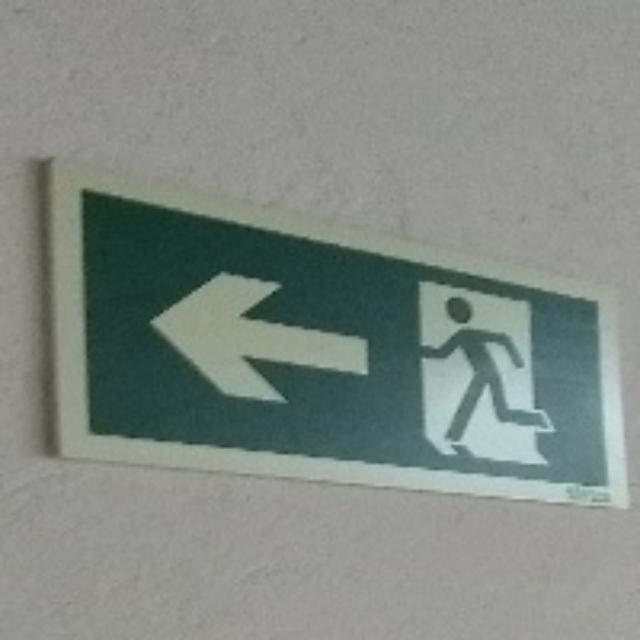exit: (51, 163, 624, 502)
